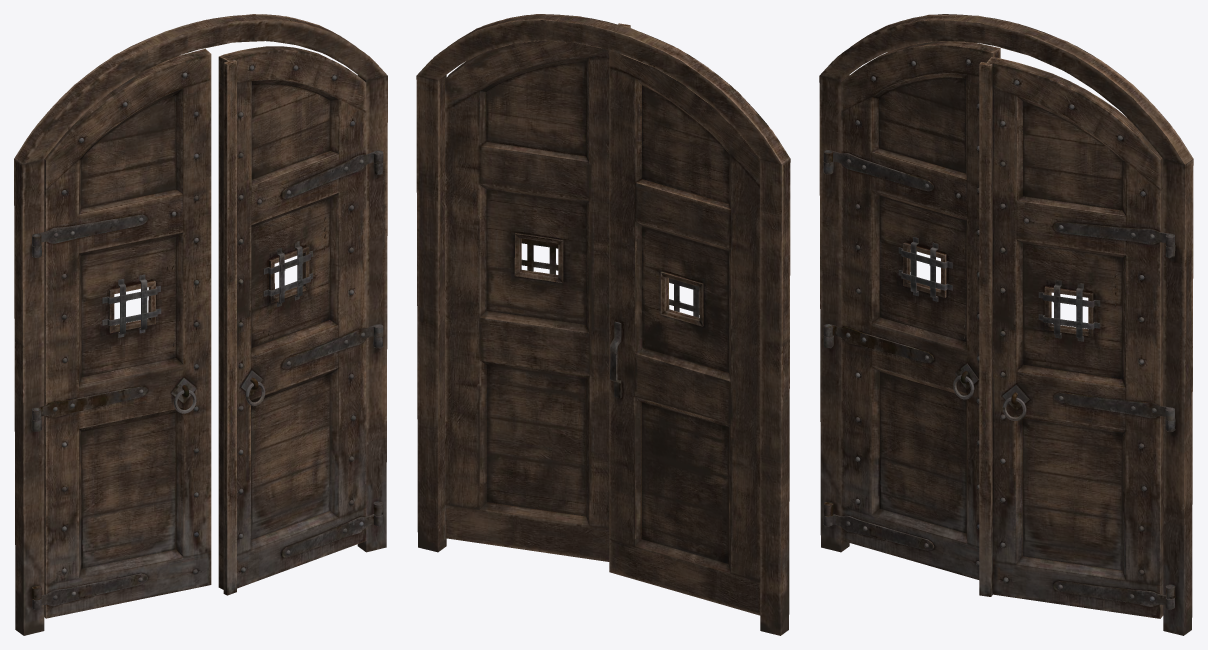
File: large_castle_door.glb
3 renders of one model, left to right at view 1: azimuth 30°, elevation 25°; view 2: azimuth 150°, elevation 25°; view 3: azimuth 330°, elevation 25°, orthographic.
Parts seen in each view (by area): view 1: large_castle_door_left, large_castle_door_right, large_castle_door_frame; view 2: large_castle_door_right, large_castle_door_left, large_castle_door_frame; view 3: large_castle_door_right, large_castle_door_left, large_castle_door_frame.
Boxes of the visible parts, x1,y1,x2,y2 form: large_castle_door_left: (32,48,211,618); large_castle_door_right: (218,46,383,595); large_castle_door_frame: (14,14,387,635); large_castle_door_right: (445,23,630,561); large_castle_door_left: (609,50,760,615); large_castle_door_frame: (416,14,790,635); large_castle_door_right: (979,57,1174,618); large_castle_door_left: (823,41,1000,579); large_castle_door_frame: (819,14,1193,635).
Bounding box in the file's own units: 2.01 × 2.96 × 0.2963.
Materials: 1 (1 with a texture image).
